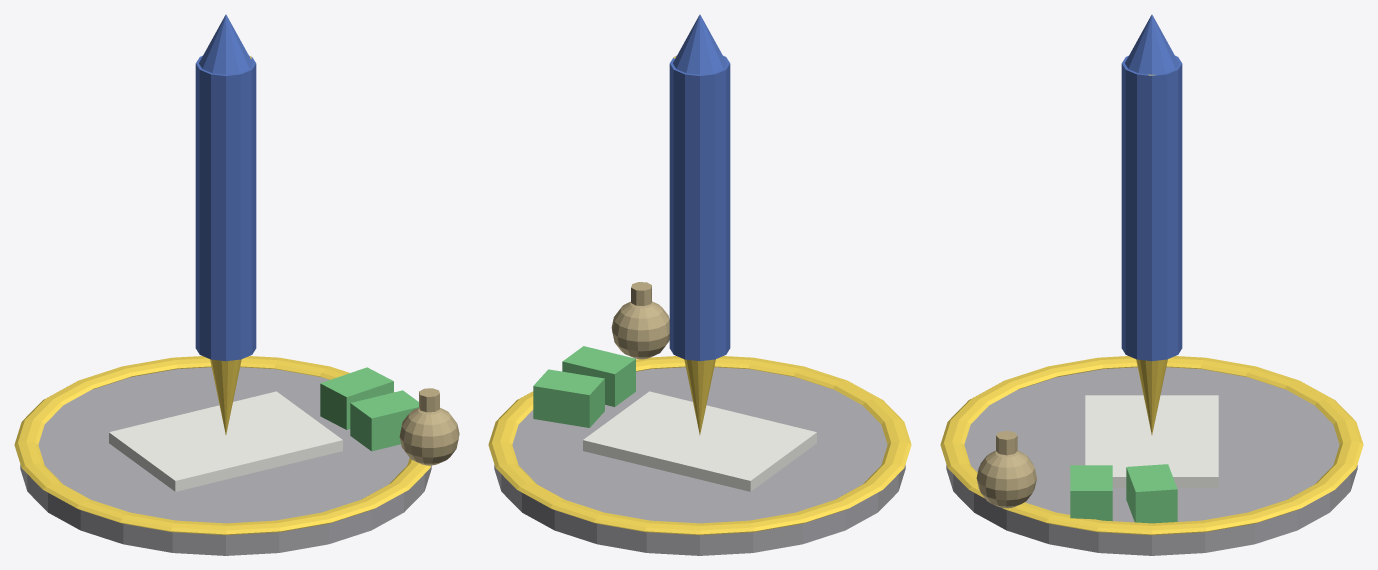
File: Caneta_L2.fbx
3 renders of one model, left to right at view 1: azimuth 30°, elevation 25°; view 2: azimuth 150°, elevation 25°; view 3: azimuth 270°, elevation 25°, orthographic.
Parts seen in each view (by area): view 1: Caneta_L2.001; view 2: Caneta_L2.001; view 3: Caneta_L2.001.
Part boxes in pixels (x1,y1,x2,y2): Caneta_L2.001: (14, 14, 459, 555); Caneta_L2.001: (488, 14, 911, 555); Caneta_L2.001: (940, 14, 1363, 555).
Size of the model in its own units: 3.5 by 4.15 by 3.5.
